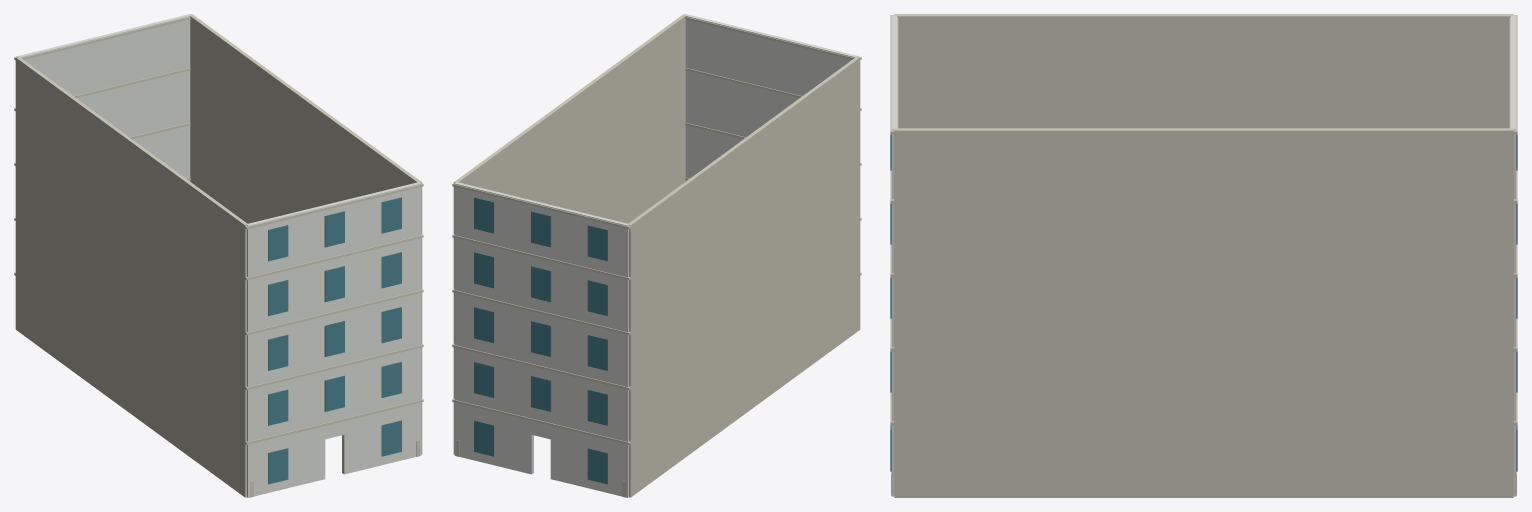
The model's file is terrace_townhouse.glb.
The picture shows the model from 3 angles, left to right: view 1: azimuth 30°, elevation 25°; view 2: azimuth 150°, elevation 25°; view 3: azimuth 270°, elevation 25°; orthographic projection. The views are drawn at different scales.
Visible parts, largest first — view 1: UpperShell_Cutaway; view 2: UpperShell_Cutaway; view 3: UpperShell_Cutaway.
Boxes of the visible parts, <box> form: UpperShell_Cutaway: <box>14,14,423,497</box>; UpperShell_Cutaway: <box>452,14,861,497</box>; UpperShell_Cutaway: <box>890,14,1517,497</box>.
Size of the model in its own units: 9.8 by 14.4 by 22.28.
